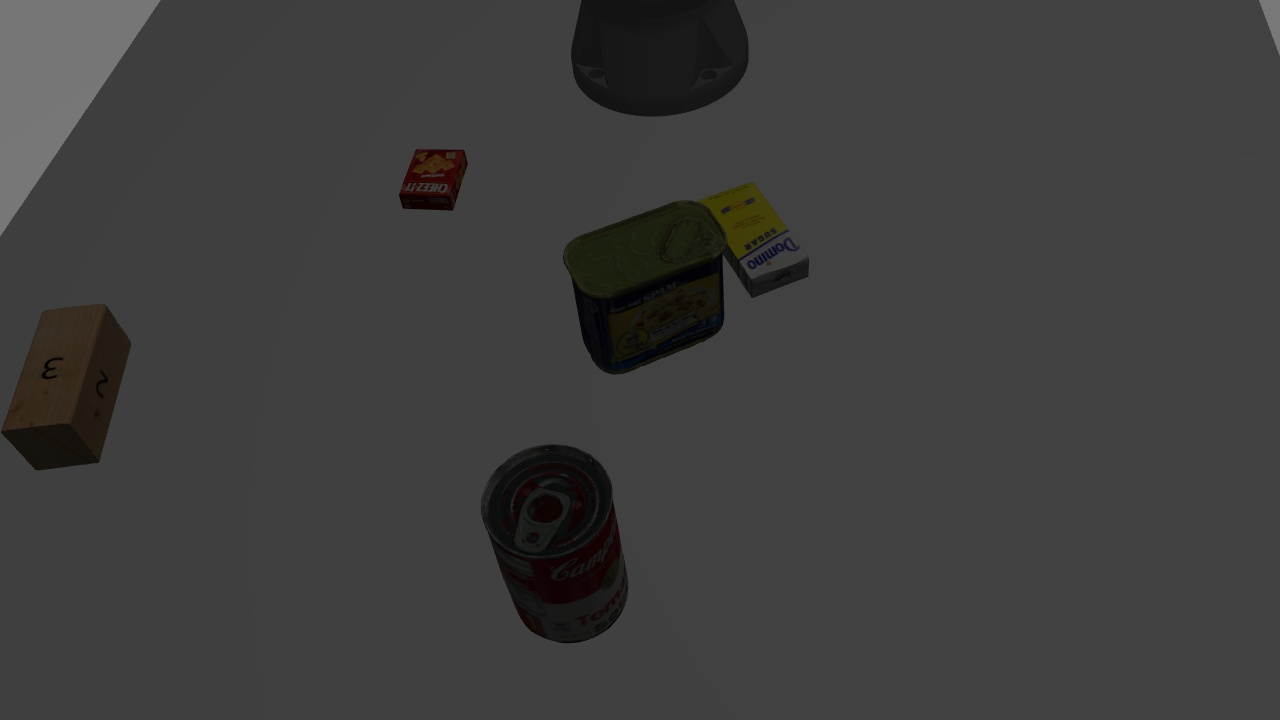cracker_box: (396, 137, 476, 216)
jenga: (699, 170, 819, 298)
potted_meat_can: (555, 196, 734, 381)
sugar_box: (694, 178, 818, 298)
tomato_soup_can: (477, 435, 638, 653)
wood_block: (1, 299, 133, 475)
